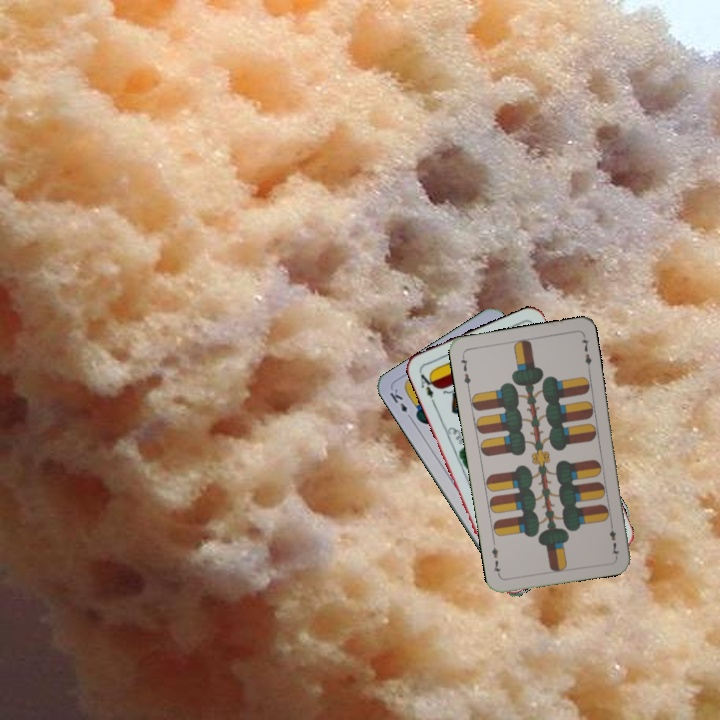E7: (456, 351, 473, 391), (605, 518, 622, 558)
EA: (415, 367, 438, 406)
EK: (386, 384, 415, 422)
